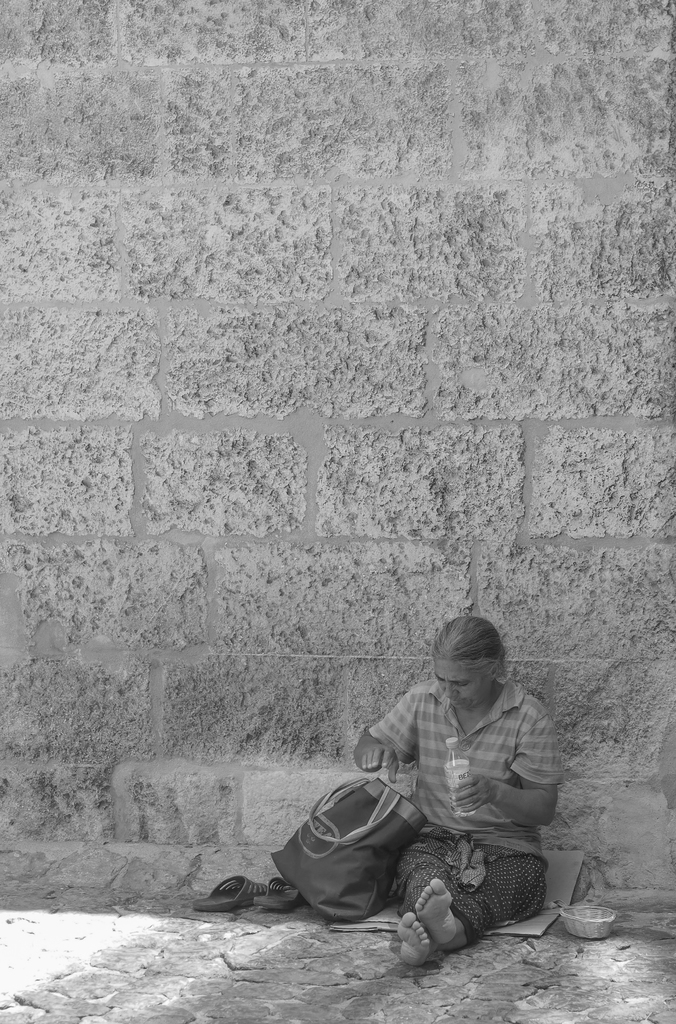Footwear: (186, 871, 269, 916), (254, 875, 307, 917)
